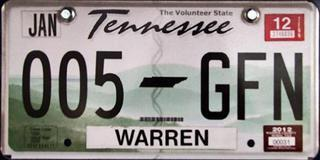placa de veiculo: (11, 0, 313, 155)
